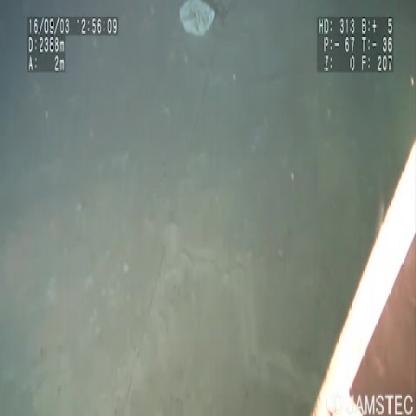Rác: (175, 2, 221, 43)
